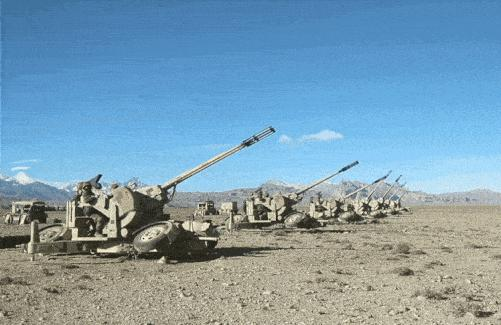MIL_SPG: (27, 127, 275, 256), (245, 162, 358, 223)
